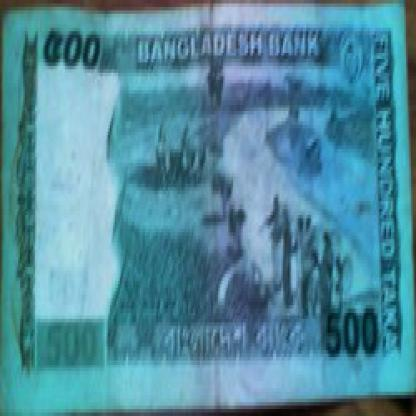500 taka: (35, 24, 110, 83)
currency: (3, 7, 414, 402)
